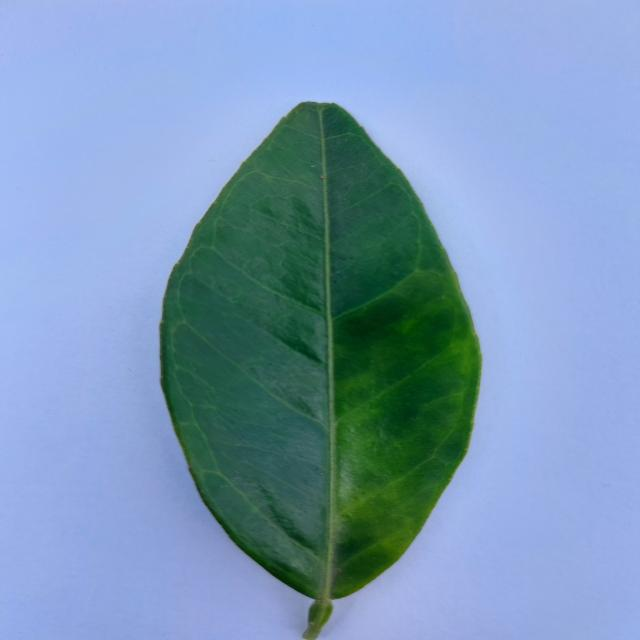greening: (160, 102, 481, 640)
